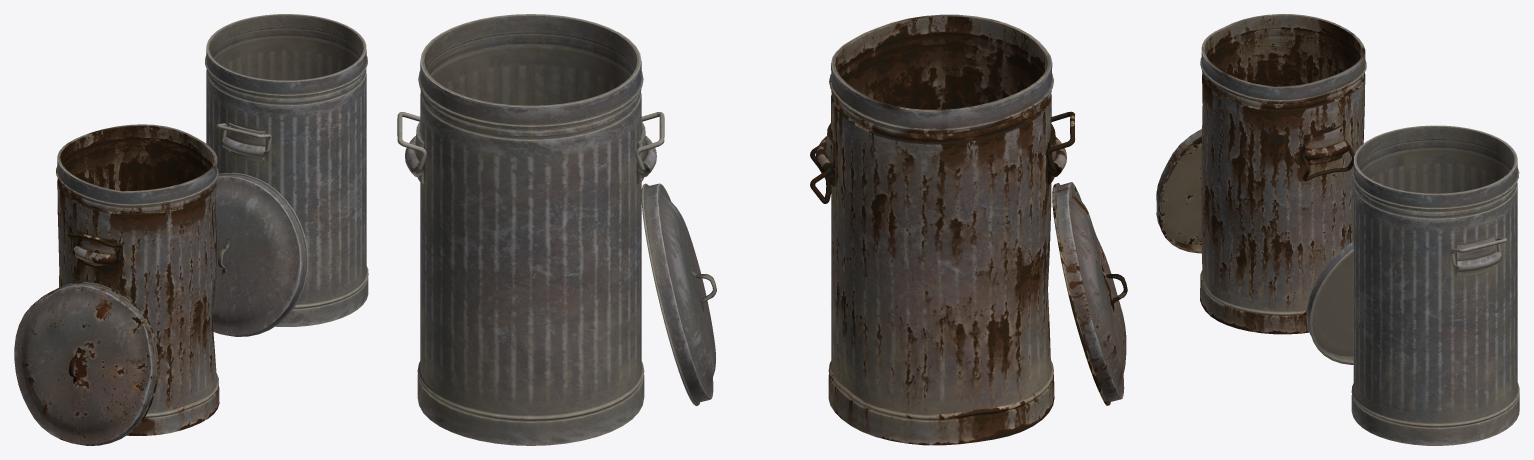
Rendered from SM_PH_metal_trash_can.fbx.
The picture shows the model from 3 angles, left to right: view 1: azimuth 30°, elevation 25°; view 2: azimuth 150°, elevation 25°; view 3: azimuth 270°, elevation 25°; orthographic projection. The views are drawn at different scales.
Visible parts, largest first — view 1: SM_PH_metal_trash_can; view 2: SM_PH_metal_trash_can; view 3: SM_PH_metal_trash_can.
Part boxes in pixels (bbox=[...]): SM_PH_metal_trash_can: bbox=[14, 14, 368, 445]; SM_PH_metal_trash_can: bbox=[397, 14, 1127, 445]; SM_PH_metal_trash_can: bbox=[1156, 14, 1519, 445].
Bounding box in the file's own units: 1.65 × 1.19 × 0.9062.
Materials: 3 (3 with a texture image).
